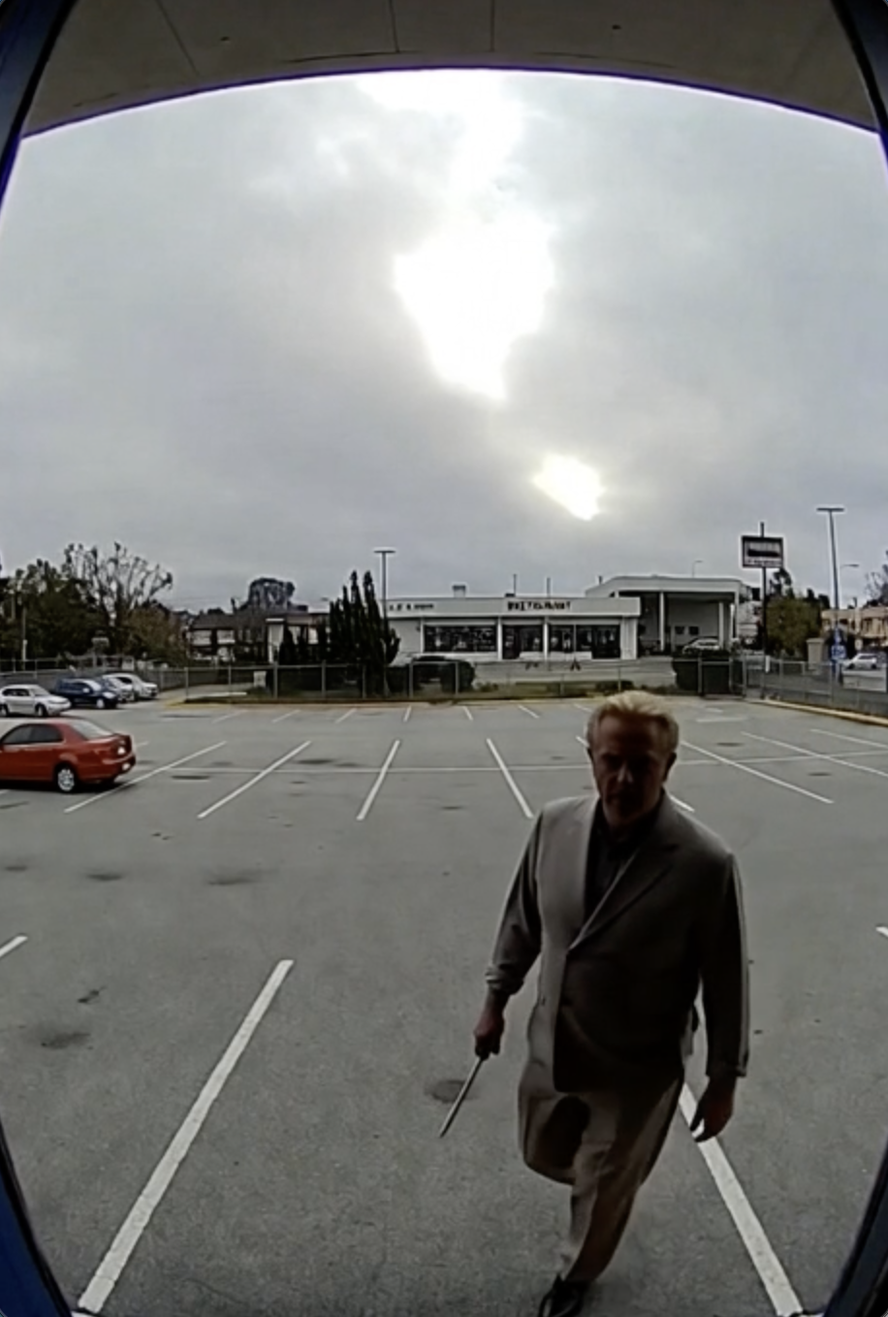Heavy Gun: (468, 690, 758, 1317)
Knife: (434, 1015, 522, 1141)
